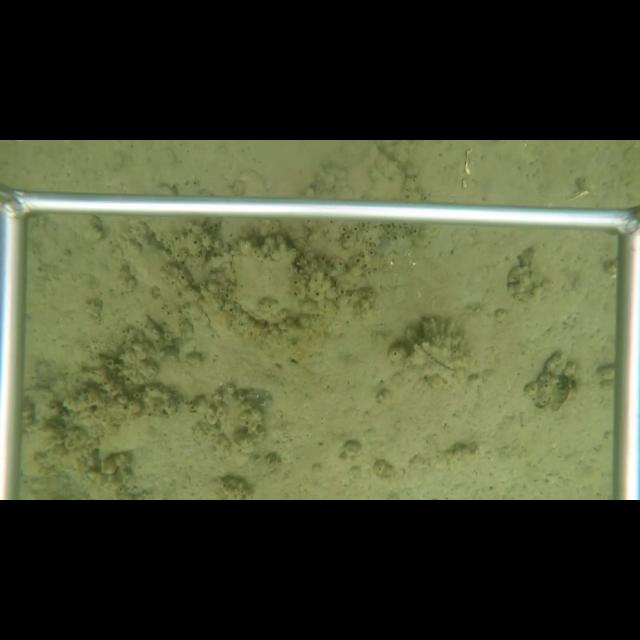Oyster-Closed: (226, 249, 307, 324), (413, 341, 458, 375)
